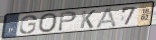7: (121, 5, 137, 26)
A: (95, 7, 117, 29)
G: (19, 14, 38, 35)
K: (79, 10, 97, 30)
O: (37, 12, 59, 33)
P: (57, 10, 79, 33)
